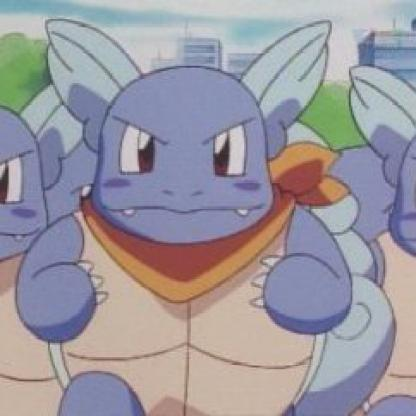Wartortle: (26, 9, 358, 416)
